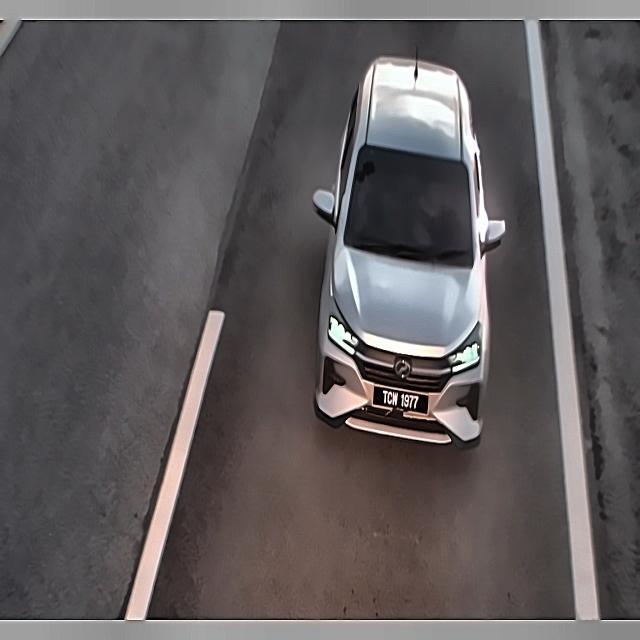car: (373, 378, 432, 425)
